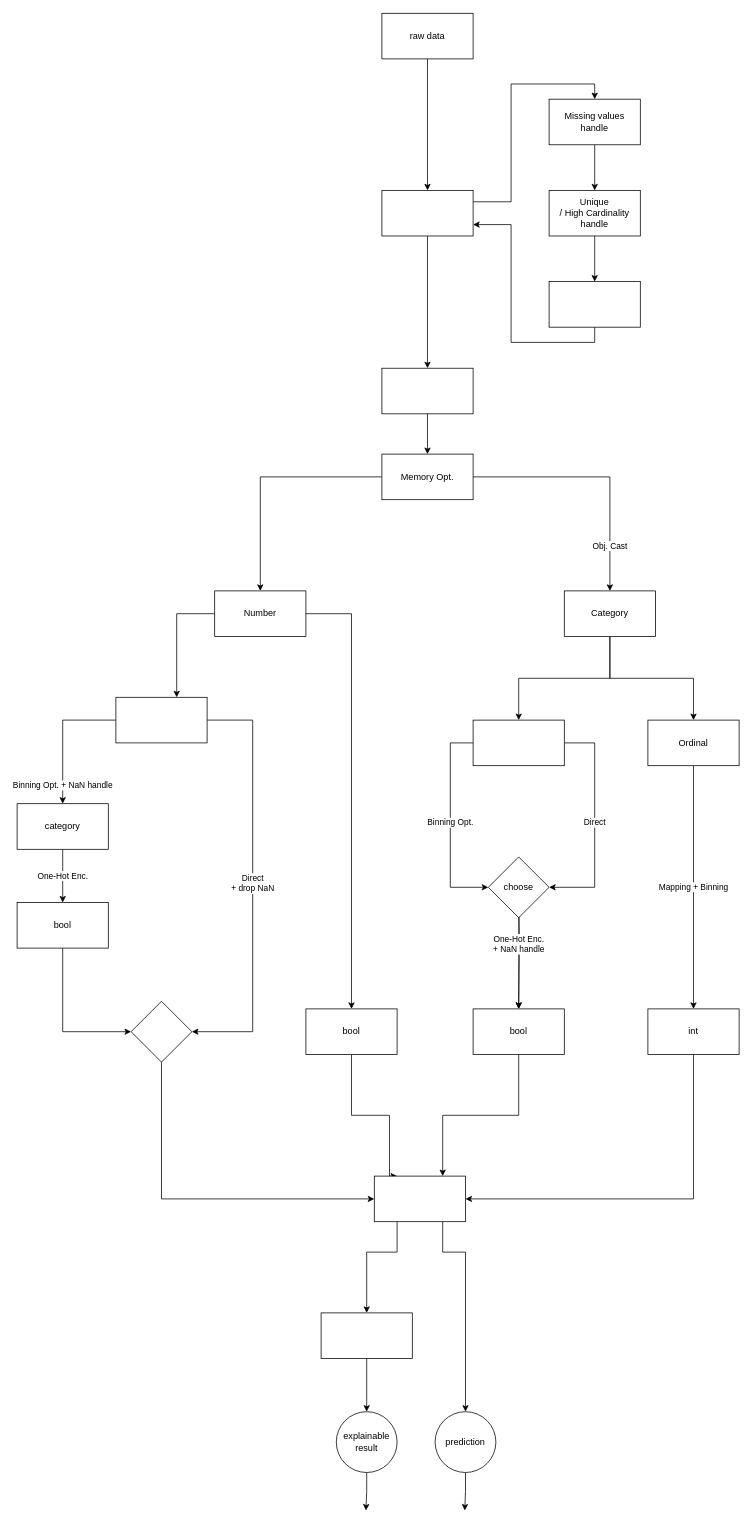
Some shapes in this 752 by 1530 pixel diagram are drawn without their labels. Here are the shapes that lost their labels. From the top down, the box of each, then its label:
(381, 190, 473, 236): Preprocessing
(548, 281, 640, 327): Drop Duplicate
(381, 367, 473, 414): AsType
(115, 697, 207, 743): float
(472, 719, 564, 766): Nominal
(130, 1001, 192, 1062): choose int / float
(374, 1175, 466, 1222): Model
(320, 1312, 412, 1358): XAI
